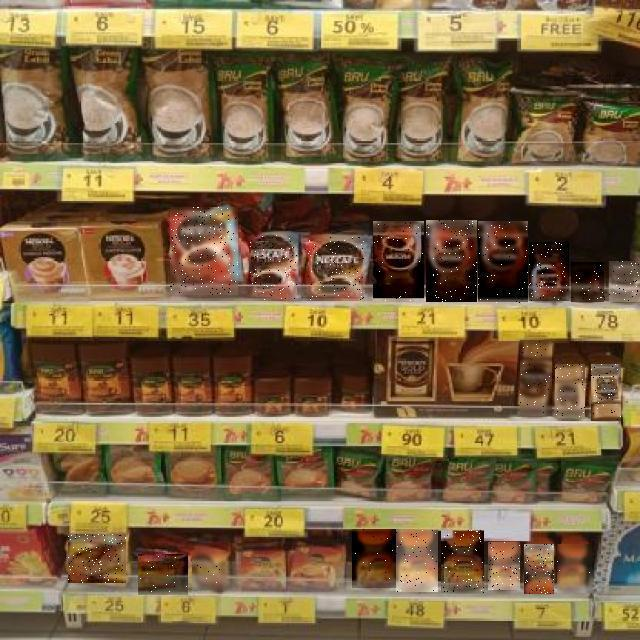Coffee: (170, 207, 238, 295), (426, 220, 477, 302), (478, 222, 528, 304), (373, 222, 424, 302), (305, 237, 364, 300), (250, 235, 298, 300), (68, 534, 126, 583), (441, 530, 484, 593), (397, 530, 439, 592), (352, 529, 396, 588), (520, 341, 552, 417), (529, 242, 569, 301), (138, 554, 188, 595), (558, 544, 594, 593), (591, 364, 621, 421), (555, 364, 585, 418), (488, 542, 520, 590), (524, 544, 554, 594), (192, 550, 226, 590), (572, 263, 606, 303), (609, 261, 640, 302)
